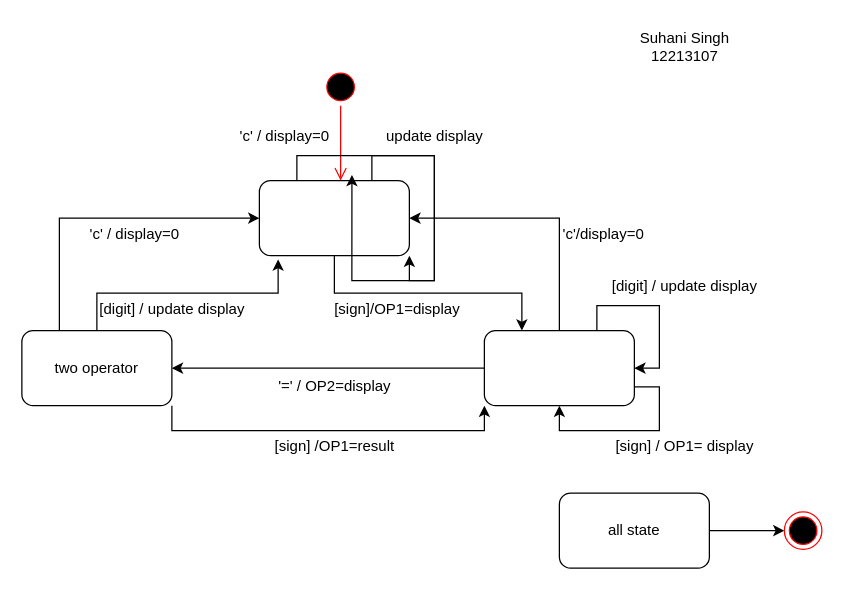
Image size: 844x590. Some labels were removed from this diagram. The centre of each missing label's shape, as x and y in pixels:
no operator: the point at 333,217
one operator: the point at 558,367
